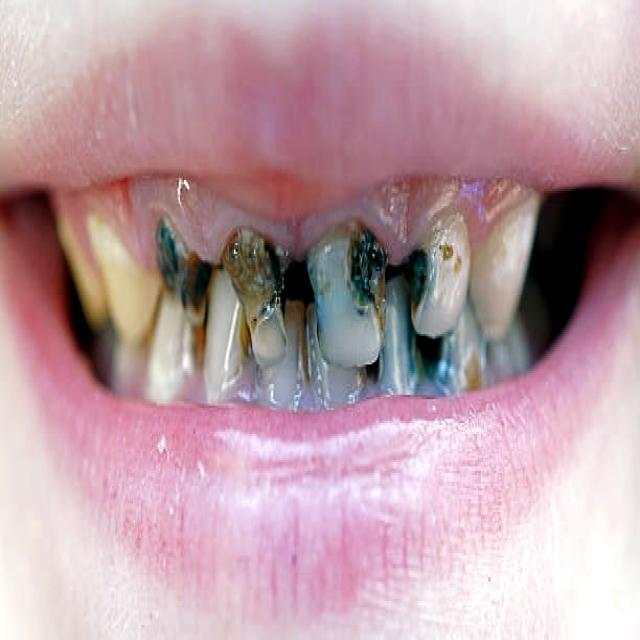cariess: (306, 223, 384, 367), (223, 230, 285, 358), (158, 221, 211, 321), (384, 276, 416, 393), (403, 249, 429, 328)
